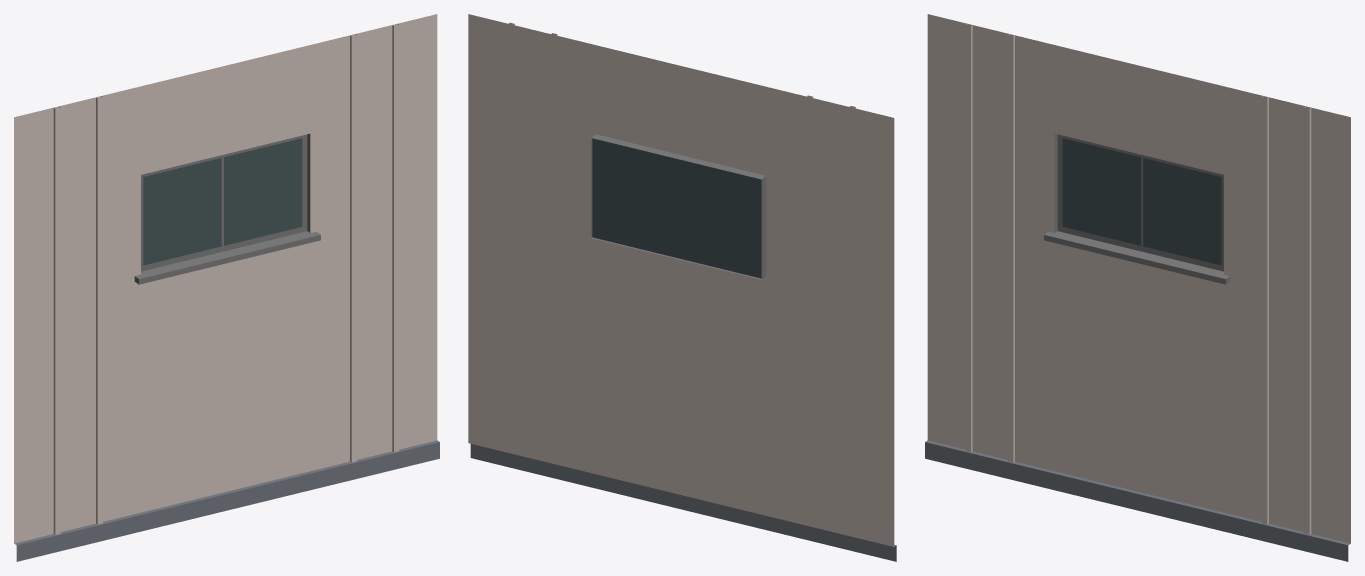
File: mid-w1.fbx
3 renders of one model, left to right at view 1: azimuth 30°, elevation 25°; view 2: azimuth 150°, elevation 25°; view 3: azimuth 330°, elevation 25°, orthographic.
Visible parts, largest first — view 1: a1096/0/mid-w1; view 2: a1096/0/mid-w1; view 3: a1096/0/mid-w1.
Boxes of the visible parts, x1,y1,x2,y2 form: a1096/0/mid-w1: [14, 14, 439, 561]; a1096/0/mid-w1: [468, 14, 896, 561]; a1096/0/mid-w1: [925, 14, 1350, 561].
Size of the model in its own units: 4 by 4 by 0.15.
